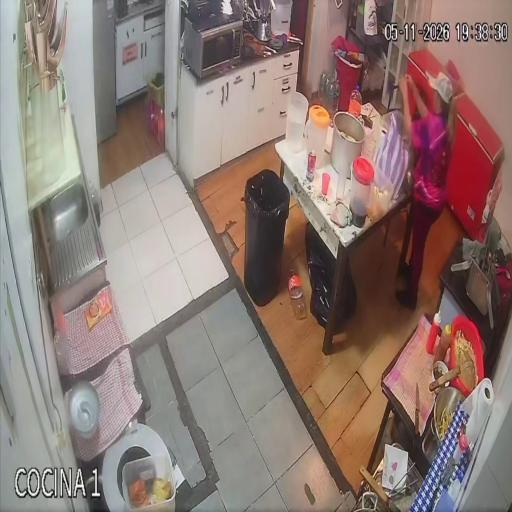Balde: (271, 0, 292, 36)
Basurero: (243, 169, 289, 306)
Cuchillo1: (415, 383, 420, 434)
Envase Ketchup: (426, 313, 441, 355)
Envase Llajua: (434, 326, 451, 362)
Jarra1: (350, 157, 374, 227)
Jarra2: (304, 105, 330, 168)
Jarra3: (285, 91, 309, 152)
Microondas: (183, 15, 243, 78)
Tapa de olla: (66, 381, 100, 439)
Taper: (121, 452, 177, 512)
olla1: (330, 112, 365, 180)
